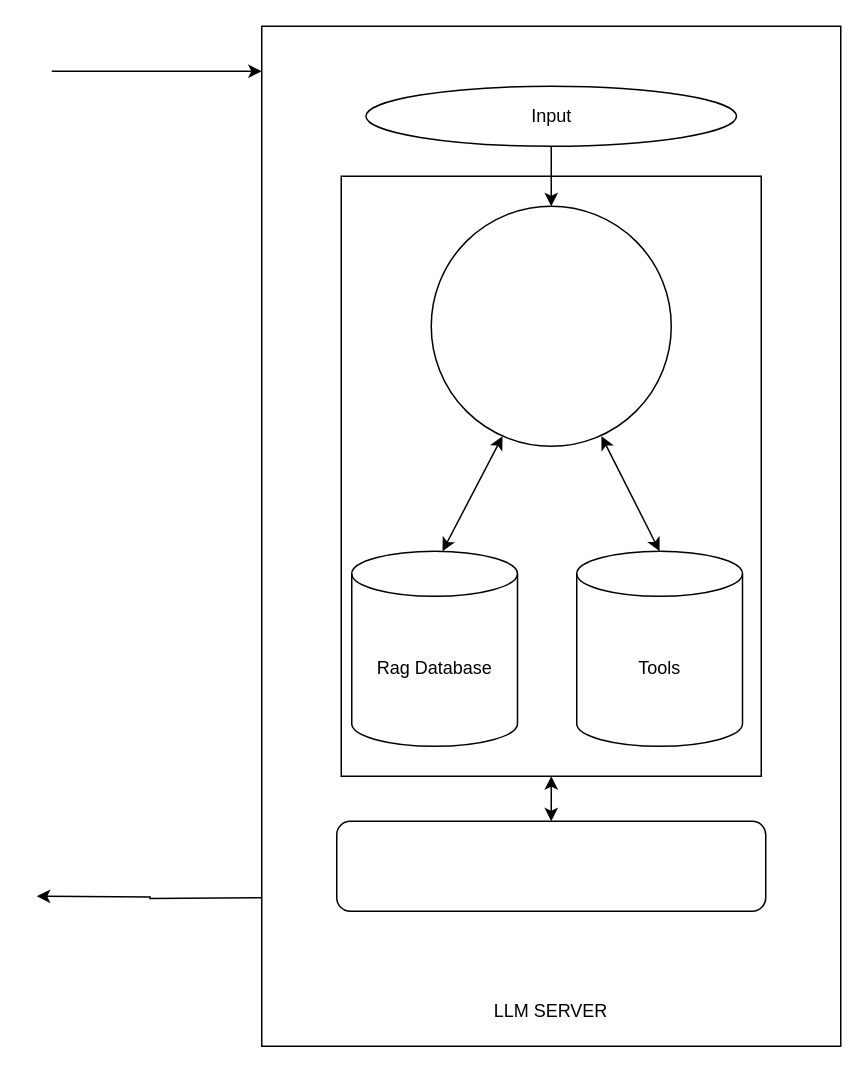
The diagram is 867 pixels wide and 1073 high, and some of its shapes have lost their labels. Here are the shapes that lost their labels. From the top down, the box of each, then its label:
(430, 205, 671, 446): LLM Model
(335, 820, 766, 911): Judge / Jury LLMs
